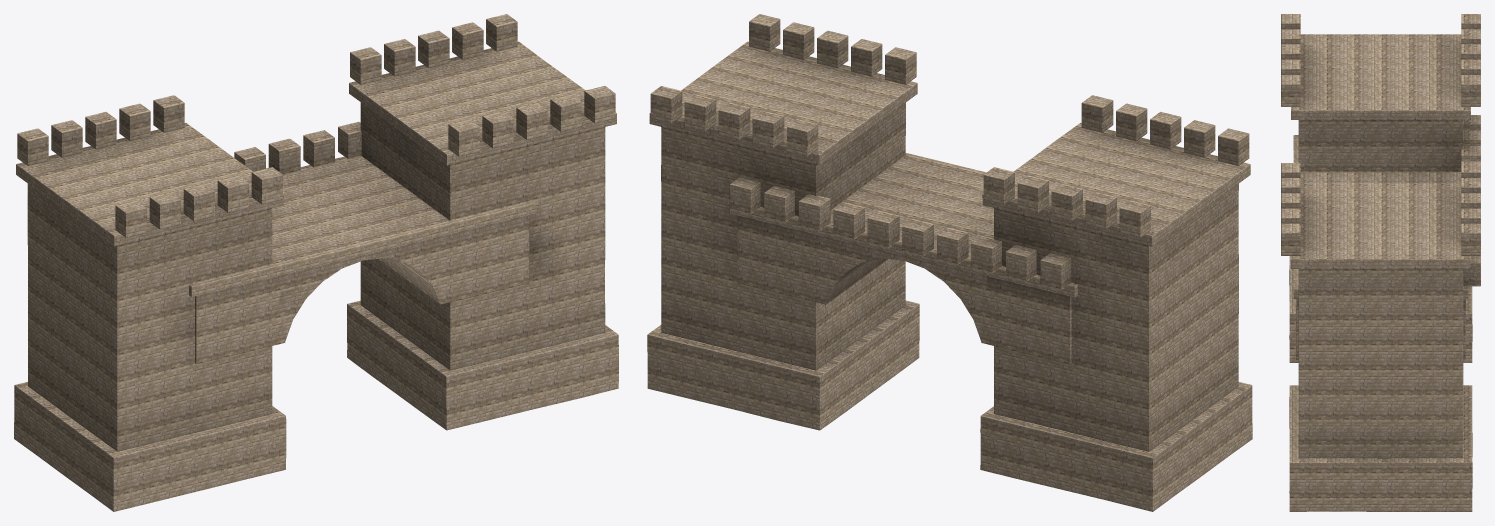
File: w_gate.glb
The picture shows the model from 3 angles, left to right: view 1: azimuth 30°, elevation 25°; view 2: azimuth 150°, elevation 25°; view 3: azimuth 270°, elevation 25°; orthographic projection. The views are drawn at different scales.
Visible parts, largest first — view 1: gate; view 2: gate; view 3: gate.
Part boxes in pixels (x1,y1,x2,y2): gate: (14,14,618,511); gate: (647,14,1252,511); gate: (1281,14,1480,511).
Bounding box in the file's own units: 41.03 × 23.32 × 15.3.
Materials: 1 (1 with a texture image).
